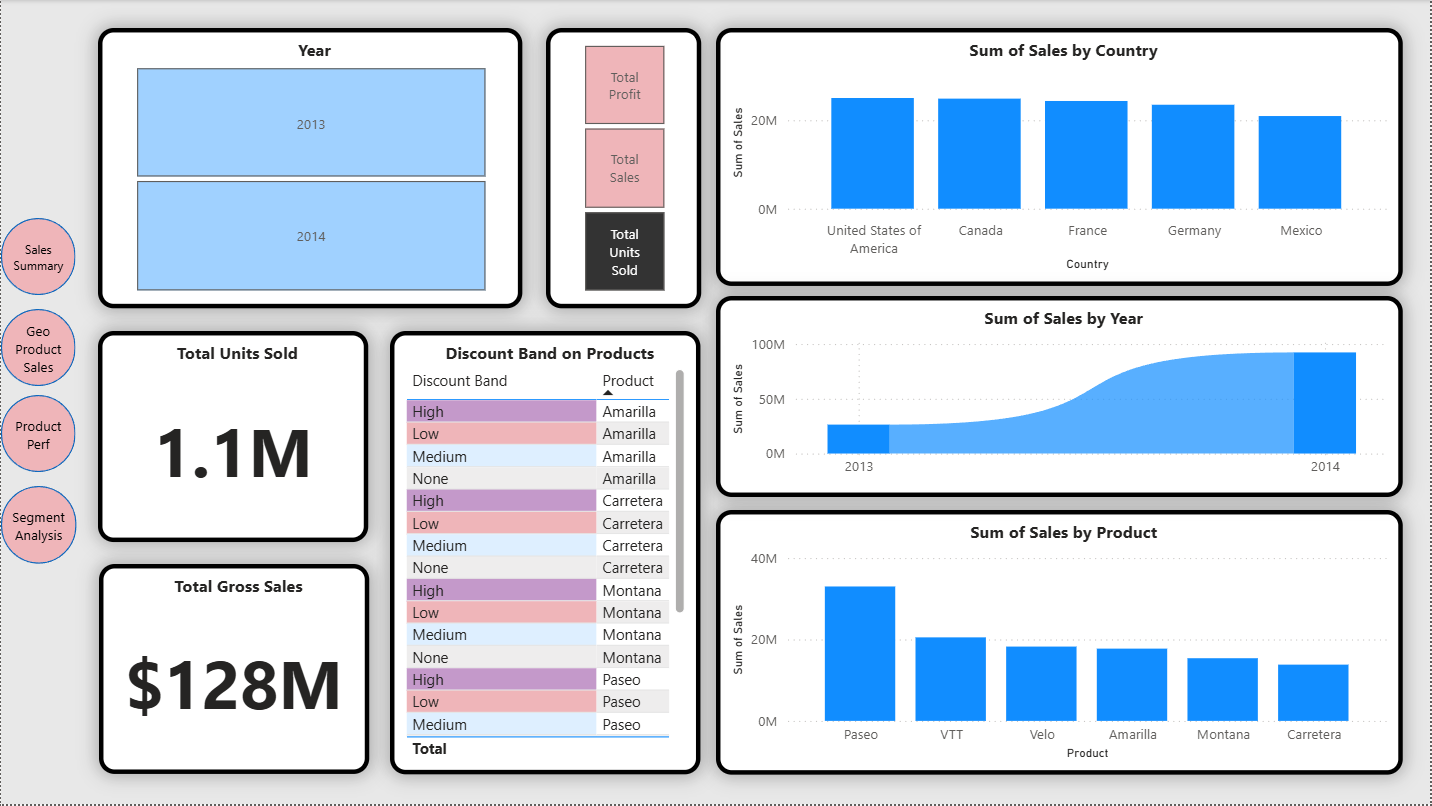

This screenshot's page, from the dashboard's own definition file:
{"tool":"powerbi","page":{"name":"Sales Summary","canvas":[1280,720],"ordinal":0},"visuals":[{"type":"columnChart","title":"Sum of Sales by Country","fields":{"Category":["financials.Country"],"Y":["Sum(financials. Sales)"]},"box":[640,25.2,614.8,230.8],"z":0},{"type":"shape","box":[0,435.3,67.5,69.5],"z":0,"group":"g1"},{"type":"shape","box":[0,353.8,67,69.3],"z":1000,"group":"g1"},{"type":"columnChart","title":"Sum of Sales by Product","fields":{"Category":["financials.Product"],"Y":["Sum(financials. Sales)"]},"box":[640,456.6,614.8,236.9],"z":1000},{"type":"shape","box":[0,195.1,67,69.3],"z":2000,"group":"g1"},{"type":"ribbonChart","fields":{"Y":["Sum(financials. Sales)"],"Category":["financials.Year"]},"box":[640,265.1,614.8,180.4],"z":2000},{"type":"shape","box":[0,276.2,67,69.3],"z":3000,"group":"g1"},{"type":"card","title":"Total Gross Sales","fields":{"Values":["Sum(financials.Gross Sales)"]},"box":[87.7,504.9,241.9,188.5],"z":3000},{"type":"slicer","title":"Year","fields":{"Values":["financials.Year"]},"box":[86.7,25.2,380,251],"z":4000},{"type":"group","id":"g1","title":"Group 1","box":[0,195.1,67.5,309.7],"z":5000},{"type":"tableEx","title":"Discount Band on Products","fields":{"Values":["financials.Discount Band","financials.Product"]},"box":[348.7,296.3,278.2,397.1],"z":7000},{"type":"slicer","fields":{"Values":["Metrics.Metric"]},"box":[487.8,25.2,139.1,251],"z":8000},{"type":"card","fields":{"Values":["financials.Dynamic Metric"]},"box":[86.9,296.4,241.8,189],"z":9000}]}

Visuals, with their boxes in screenshot pixels (x1, y1, x2, y2), scaled from the page's 1280x720 canvas onto the 1432x806 screenshot:
"Sum of Sales by Country" columnChart: [716,28,1404,287]
shape: [0,487,76,565]
shape: [0,396,75,474]
"Sum of Sales by Product" columnChart: [716,511,1404,776]
shape: [0,218,75,296]
ribbonChart - Sum(financials. Sales) x financials.Year: [716,297,1404,499]
shape: [0,309,75,387]
"Total Gross Sales" card: [98,565,369,776]
"Year" slicer: [97,28,522,309]
"Group 1" group: [0,218,76,565]
"Discount Band on Products" tableEx: [390,332,701,776]
slicer - Metrics.Metric: [546,28,701,309]
card - financials.Dynamic Metric: [97,332,368,543]
